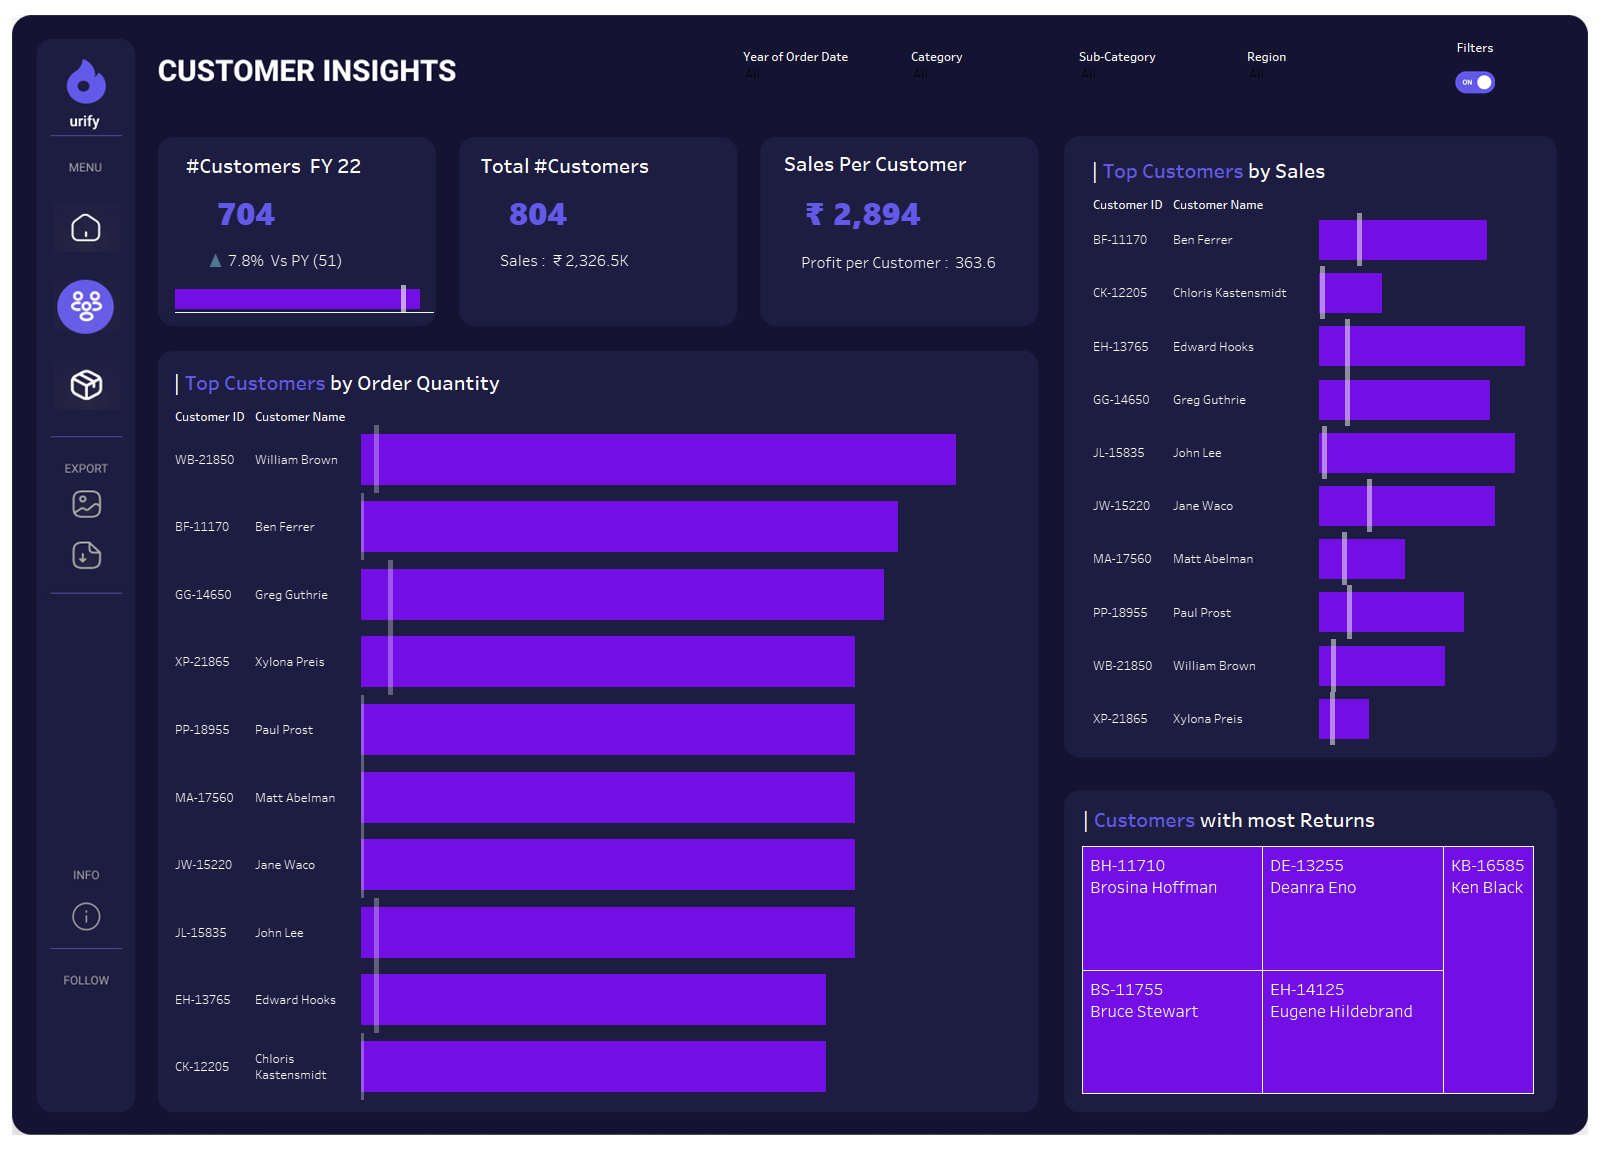

Layout of this report page (visuals, bound fields, positions):
{"tool":"tableau","page":{"name":"Customer Insights","canvas":[1600,1150],"ordinal":0},"visuals":[{"type":"image","param":"C:/Users/pande/Downloads/Customer Insights.jpg","box":[8,8,1584,1134]},{"type":"text","box":[1454,32,100,30]},{"type":"filter","title":"tOTAL cUST(D2)","param":"[federated.12c05b20jxacir17us8sh1i0n8jg].[yr:Order Date:ok]","box":[739,43,168,65]},{"type":"filter","title":"tOTAL cUST(D2)","param":"[federated.12c05b20jxacir17us8sh1i0n8jg].[none:Category:nk]","box":[907,43,168,65]},{"type":"filter","title":"tOTAL cUST(D2)","param":"[federated.12c05b20jxacir17us8sh1i0n8jg].[none:Sub-Category:nk]","box":[1075,43,168,65]},{"type":"filter","title":"tOTAL cUST(D2)","param":"[federated.12c05b20jxacir17us8sh1i0n8jg].[none:Region:nk]","box":[1243,43,168,65]},{"type":"dashboard-object","box":[1455,61,40,42]},{"type":"worksheet","title":"sales per customer (d2)","mark":"Automatic","box":[767,143,256,136]},{"type":"worksheet","title":"#Customers KPI 1","mark":"Automatic","box":[169,145,248,130]},{"type":"text","box":[478,150,237,30]},{"type":"worksheet","title":"top customers (d2) (2)","mark":"Automatic","rows":["Customer ID","Customer Name"],"cols":["Sales"],"box":[1087,150,448,595]},{"type":"worksheet","title":"tOTAL cUST(D2)","mark":"Automatic","box":[468,157,261,149]},{"type":"dashboard-object","box":[53,193,67,67]},{"type":"dashboard-object","box":[53,272,67,67]},{"type":"worksheet","title":"#Customers KPI 2","mark":"Automatic","cols":["CY #Orders (copy)_2154972448673271822"],"box":[175,285,258,27]},{"type":"dashboard-object","box":[53,351,67,67]},{"type":"worksheet","title":"top customers (d2)","mark":"Automatic","rows":["Customer ID","Customer Name"],"cols":["Order ID"],"box":[169,362,831,739]},{"type":"dashboard-object","box":[73,487,29,32]},{"type":"dashboard-object","box":[73,541,29,32]},{"type":"image","param":"C:/Users/pande/Downloads/border.png","box":[1049,597,519,299]},{"type":"image","param":"C:/Users/pande/Downloads/border top.png","box":[1049,665,519,239]},{"type":"worksheet","title":"most retunrs customer(d2)","mark":"Automatic","box":[1078,799,459,299]},{"type":"worksheet","title":"Icon","mark":"Automatic","rows":["Calculation_1584985621930827798"],"cols":["Calculation_1584985621930827798"],"box":[61,895,52,40]}]}

Visuals, with their boxes on the page's 1600x1150 design canvas (x1, y1, x2, y2). These are canvas units, not pixel positions in the 1600x1150 screenshot, which may show the page scaled, cropped or inside an application window:
image: [x1=8, y1=8, x2=1592, y2=1142]
text: [x1=1454, y1=32, x2=1554, y2=62]
"tOTAL cUST(D2)" filter: [x1=739, y1=43, x2=907, y2=108]
"tOTAL cUST(D2)" filter: [x1=907, y1=43, x2=1075, y2=108]
"tOTAL cUST(D2)" filter: [x1=1075, y1=43, x2=1243, y2=108]
"tOTAL cUST(D2)" filter: [x1=1243, y1=43, x2=1411, y2=108]
dashboard-object: [x1=1455, y1=61, x2=1495, y2=103]
"sales per customer (d2)" worksheet: [x1=767, y1=143, x2=1023, y2=279]
"#Customers KPI 1" worksheet: [x1=169, y1=145, x2=417, y2=275]
text: [x1=478, y1=150, x2=715, y2=180]
"top customers (d2) (2)" worksheet: [x1=1087, y1=150, x2=1535, y2=745]
"tOTAL cUST(D2)" worksheet: [x1=468, y1=157, x2=729, y2=306]
dashboard-object: [x1=53, y1=193, x2=120, y2=260]
dashboard-object: [x1=53, y1=272, x2=120, y2=339]
"#Customers KPI 2" worksheet: [x1=175, y1=285, x2=433, y2=312]
dashboard-object: [x1=53, y1=351, x2=120, y2=418]
"top customers (d2)" worksheet: [x1=169, y1=362, x2=1000, y2=1101]
dashboard-object: [x1=73, y1=487, x2=102, y2=519]
dashboard-object: [x1=73, y1=541, x2=102, y2=573]
image: [x1=1049, y1=597, x2=1568, y2=896]
image: [x1=1049, y1=665, x2=1568, y2=904]
"most retunrs customer(d2)" worksheet: [x1=1078, y1=799, x2=1537, y2=1098]
"Icon" worksheet: [x1=61, y1=895, x2=113, y2=935]
